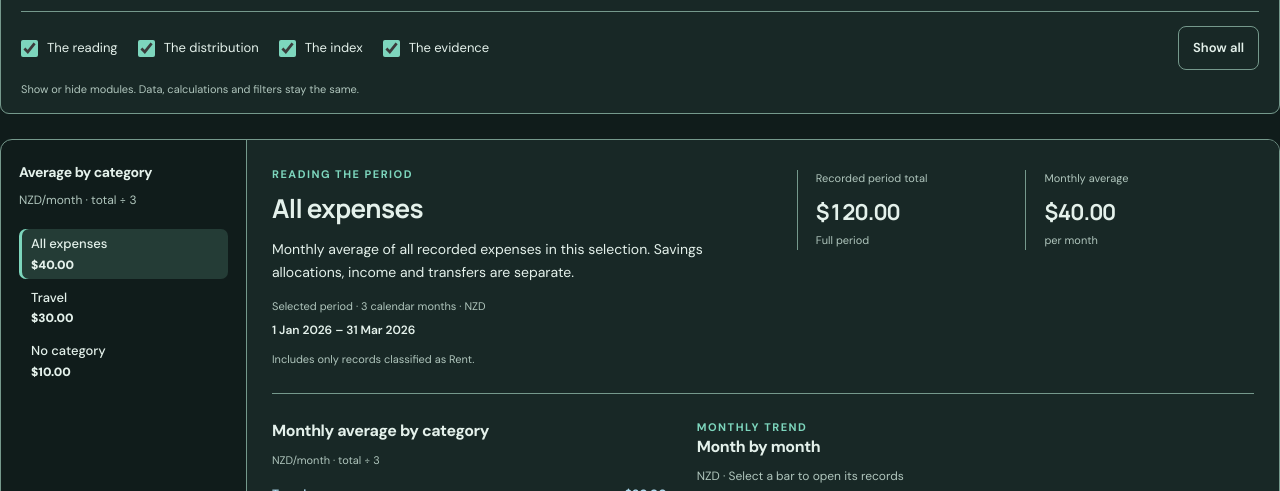
supports an explicitly selected blank category and its custom subcategory
This screenshot has width=1280, height=491.
(page scrolled)
Click the button "No category $10.00": {"x": 124, "y": 361} [19, 336, 228, 386]
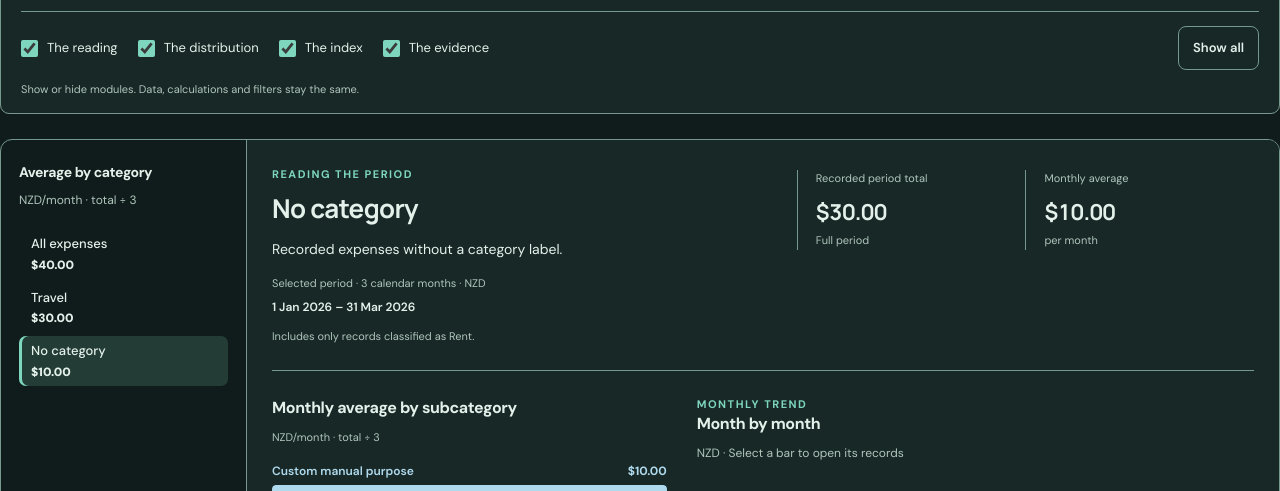
Expected: the element with test id "period-reading" shows "No category", [272, 190, 418, 226]
Expected: the element with test id "period-reading" shows "Recorded expenses without a category label.", [272, 240, 562, 258]
Expected: the element showing "Custom manual purpose" is shown, [272, 463, 414, 479]
